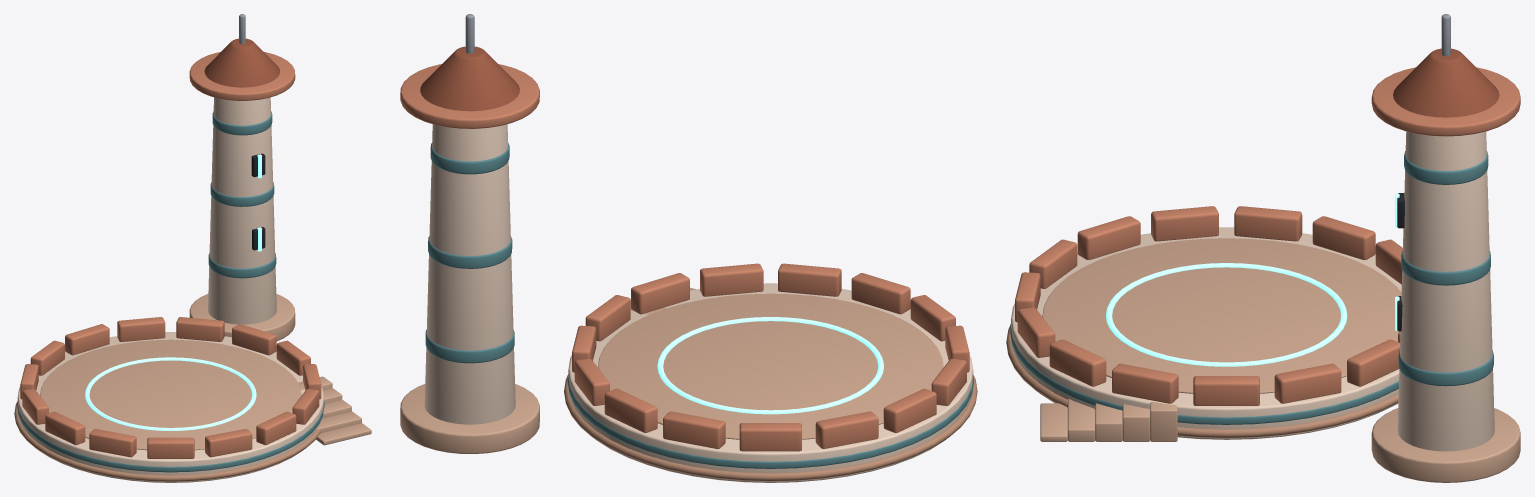
Rendered from chat.glb.
The picture shows the model from 3 angles, left to right: view 1: azimuth 30°, elevation 25°; view 2: azimuth 150°, elevation 25°; view 3: azimuth 270°, elevation 25°; orthographic projection. The views are drawn at different scales.
Visible parts, largest first — view 1: Cylinder.002, Cone, Cylinder, Cone.001, Cylinder.007, Torus, Cylinder.001, Torus.001, Cylinder.003, Cube.002, Cube.003, Cube.010 (+17 smaller); view 2: Cylinder.002, Cone, Cylinder, Cylinder.003, Cone.001, Torus, Cylinder.007, Cylinder.001, Torus.001, Cube.012, Cube.013, Cube.006 (+15 smaller); view 3: Cylinder.002, Cone, Cylinder, Cylinder.003, Cone.001, Cylinder.007, Torus.001, Torus, Cylinder.001, Cube.007, Cube.008, Cube.001 (+18 smaller).
Boxes of the visible parts, <box> form: Cylinder.002: <box>40,339,301,450</box>; Cone: <box>208,97,276,324</box>; Cylinder: <box>17,332,323,482</box>; Cone.001: <box>204,38,279,87</box>; Cylinder.007: <box>189,52,295,100</box>; Torus: <box>14,402,320,481</box>; Cylinder.001: <box>17,401,324,472</box>; Torus.001: <box>85,357,256,430</box>; Cylinder.003: <box>189,294,295,341</box>; Cube.002: <box>176,317,224,341</box>; Cube.003: <box>117,317,165,341</box>; Cube.010: <box>147,437,194,458</box>; Cylinder.002: <box>598,293,943,439</box>; Cone: <box>424,124,515,424</box>; Cylinder: <box>568,283,973,482</box>; Cylinder.003: <box>400,383,539,453</box>; Cone.001: <box>420,46,519,111</box>; Torus: <box>564,375,977,481</box>; Cylinder.007: <box>400,64,539,128</box>; Cylinder.001: <box>567,374,973,468</box>; Torus.001: <box>657,317,883,414</box>; Cube.012: <box>778,263,841,296</box>; Cube.013: <box>700,263,763,296</box>; Cube.006: <box>815,411,878,448</box>; Cylinder.002: <box>1042,238,1401,393</box>; Cone: <box>1397,131,1494,451</box>; Cylinder: <box>1011,227,1401,439</box>; Cylinder.003: <box>1371,408,1520,482</box>; Cone.001: <box>1393,48,1499,117</box>; Cylinder.007: <box>1371,67,1520,136</box>; Torus.001: <box>1106,263,1347,366</box>; Torus: <box>1006,325,1398,438</box>; Cylinder.001: <box>1010,324,1398,424</box>; Cube.007: <box>1234,206,1302,241</box>; Cube.008: <box>1151,206,1218,241</box>; Cube.001: <box>1274,363,1341,403</box>.
Size of the model in its own units: 13.72 by 12.3 by 13.12.
